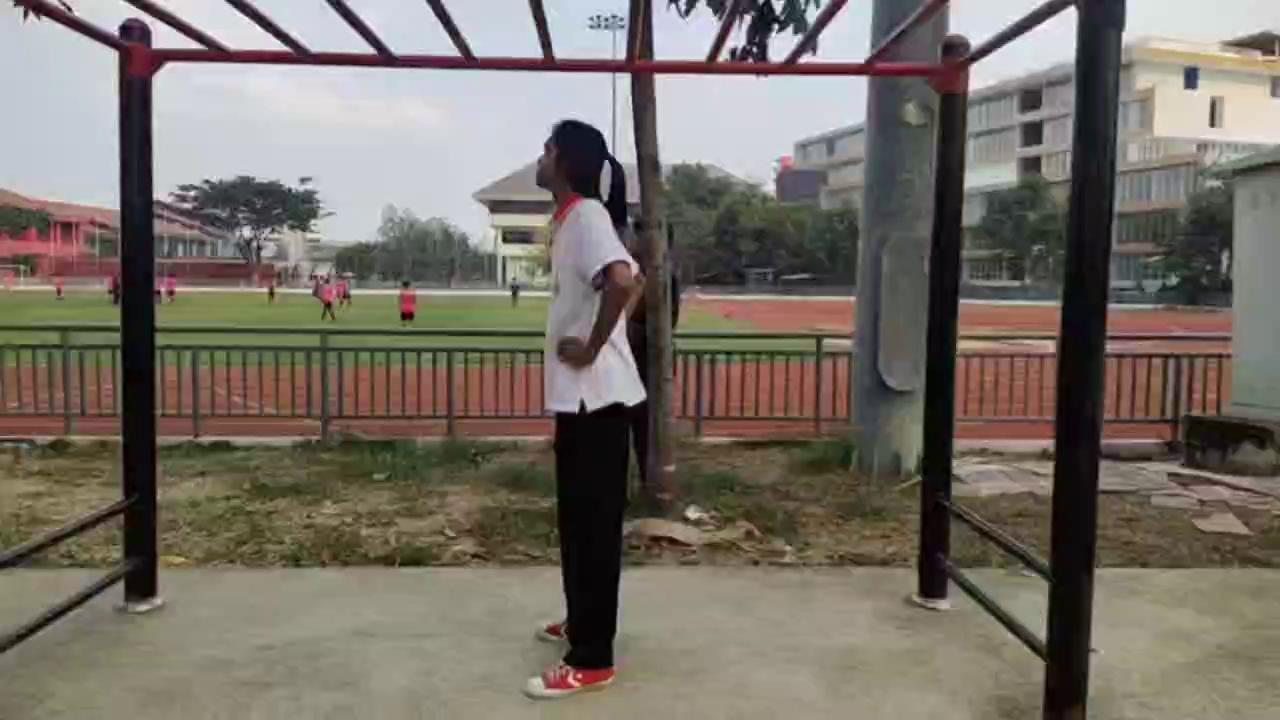squat up: (526, 121, 648, 701)
